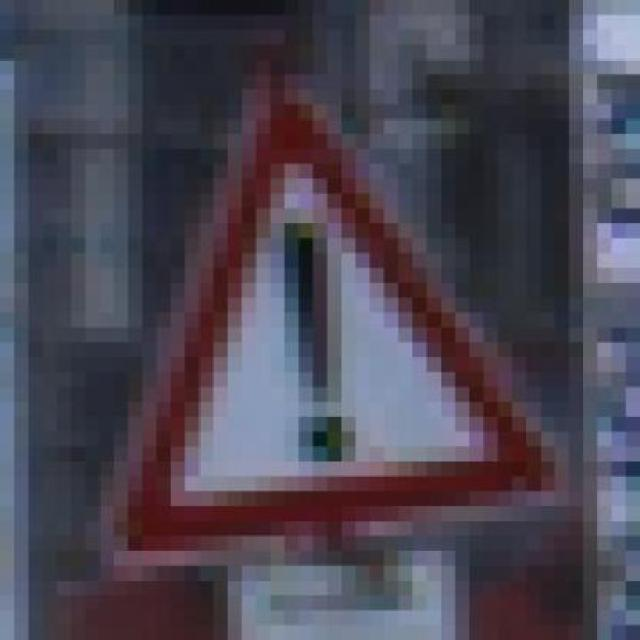Attention Please-: (85, 75, 583, 550)
